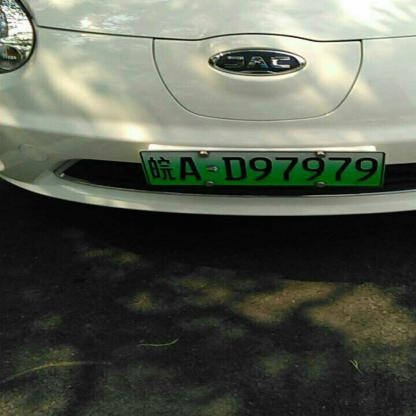lp: (139, 152, 386, 186)
